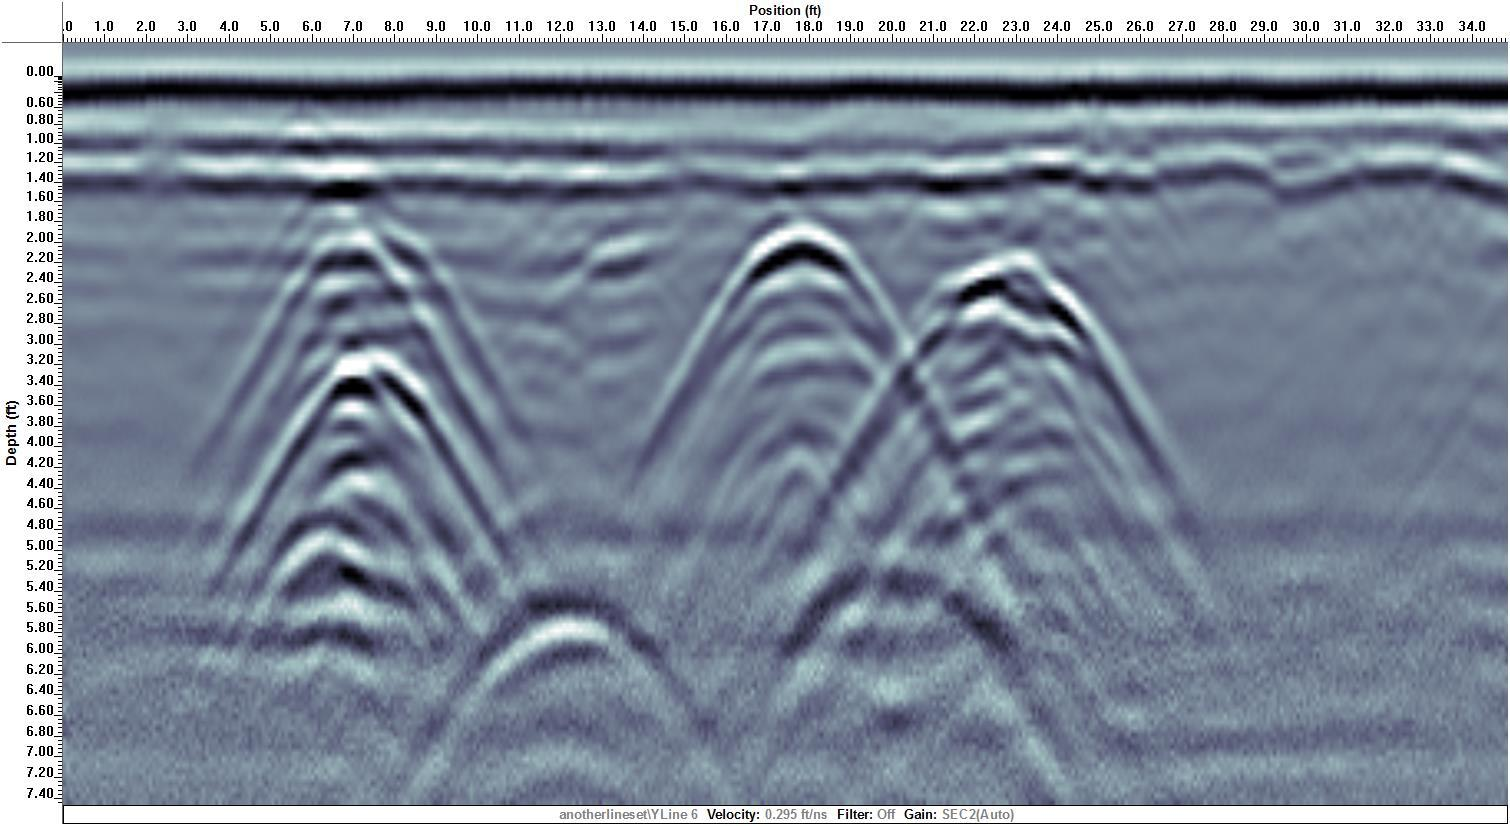hyperbola: (239, 200, 473, 492), (878, 235, 1145, 463), (665, 205, 931, 414), (249, 335, 451, 596), (458, 573, 690, 749)
